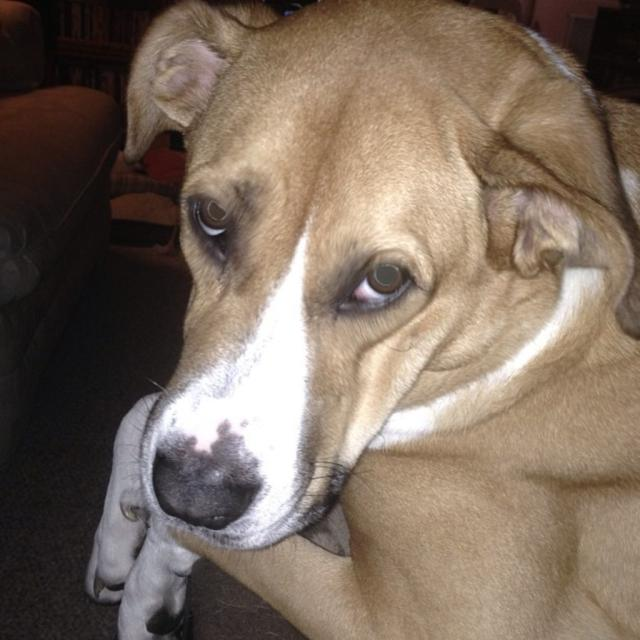Dog: (79, 0, 638, 638)
